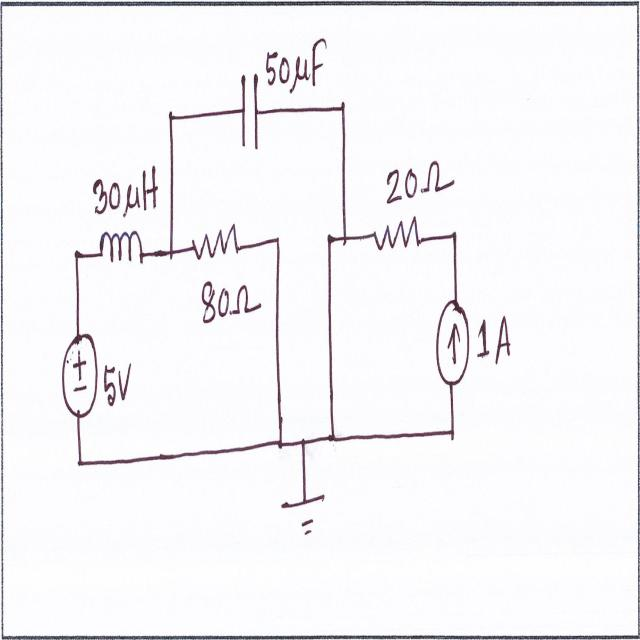capacitor: (241, 66, 261, 156)
current_source: (434, 291, 474, 394)
ground: (281, 484, 332, 542)
inductor: (96, 222, 146, 282)
resistor: (368, 214, 427, 268), (190, 218, 243, 267)
voltage_source: (59, 328, 102, 421)
